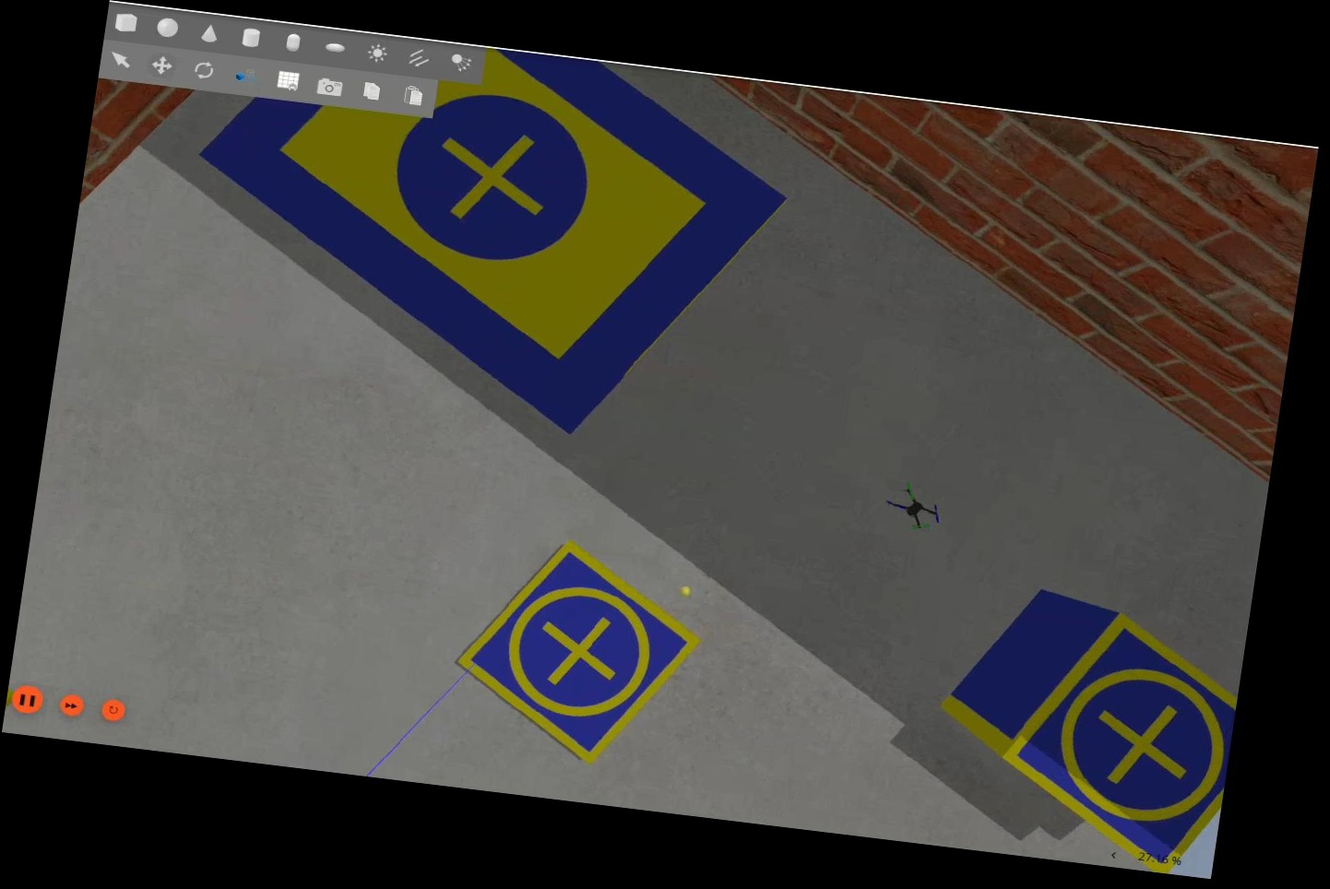large_base: (167, 14, 807, 451)
small_base: (982, 601, 1248, 883), (442, 530, 716, 779)
